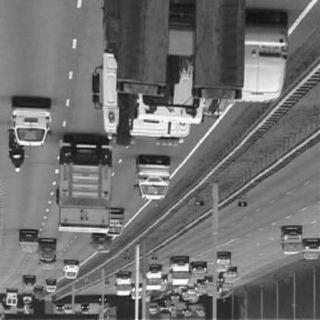other: (112, 265, 192, 297), (274, 227, 307, 255), (7, 143, 29, 179), (153, 133, 185, 154)
